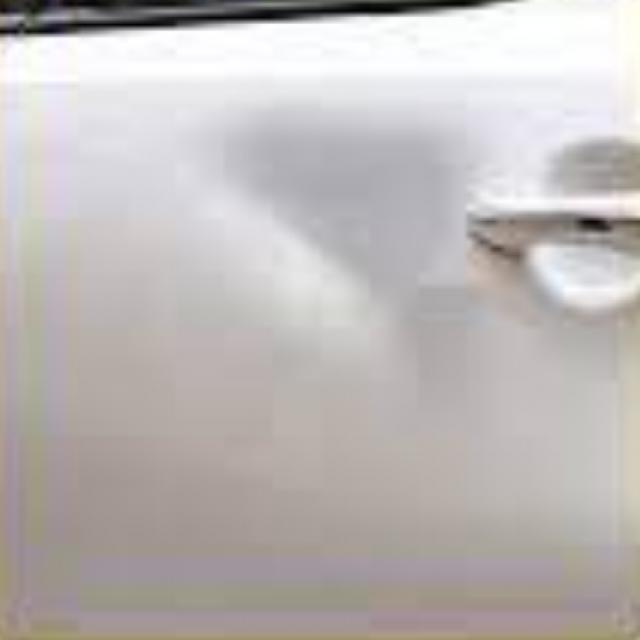dents: (206, 105, 486, 319)
